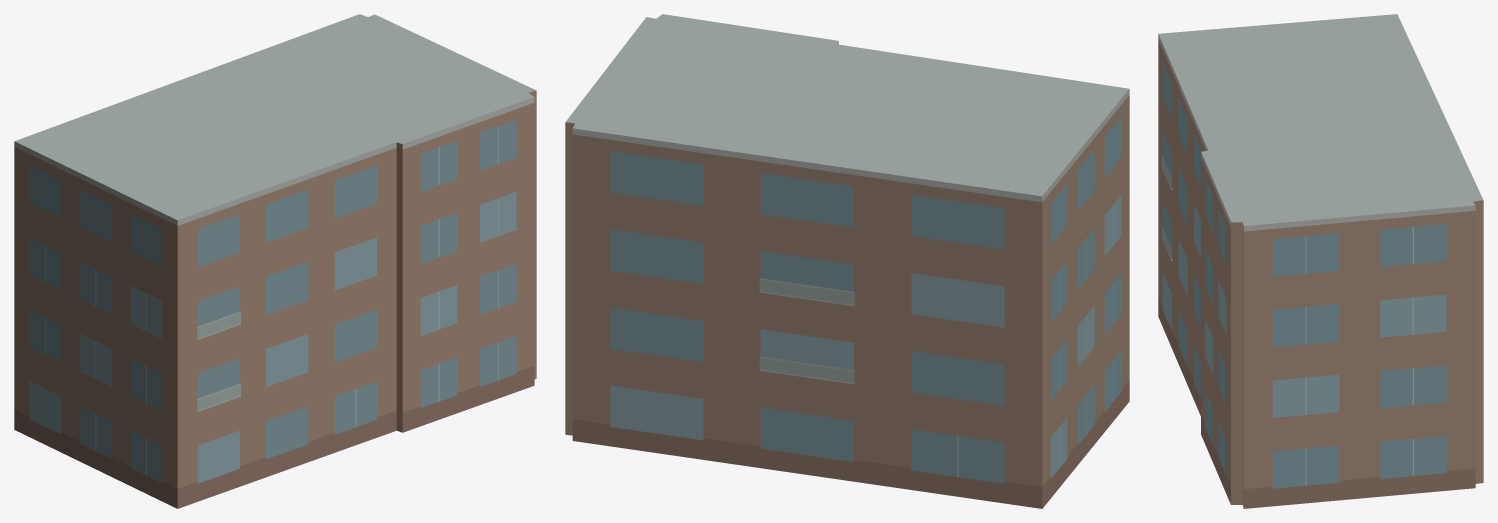
Rendered from survey-upis-32635869.glb.
3 renders of one model, left to right at view 1: azimuth 30°, elevation 25°; view 2: azimuth 150°, elevation 25°; view 3: azimuth 270°, elevation 25°, orthographic. The views are drawn at different scales.
Visible parts, largest first — view 1: survey-upis-32635869.tmp; view 2: survey-upis-32635869.tmp; view 3: survey-upis-32635869.tmp.
Part boxes in pixels (bbox=[...]): survey-upis-32635869.tmp: bbox=[14, 14, 536, 508]; survey-upis-32635869.tmp: bbox=[565, 14, 1129, 508]; survey-upis-32635869.tmp: bbox=[1158, 14, 1483, 508].
Bounding box in the file's own units: 20.45 × 12.7 × 13.25.
